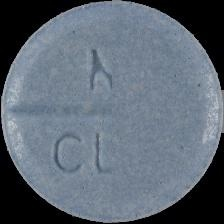60429-652: (0, 0, 224, 224)
